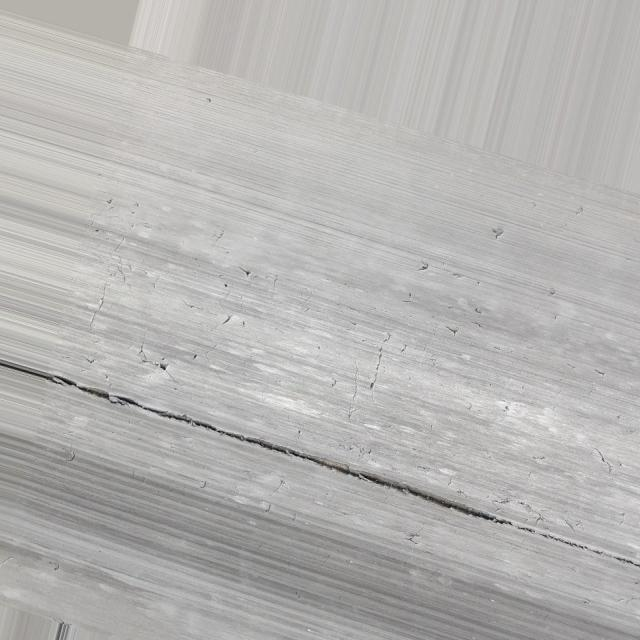Puncture: (446, 326, 458, 336), (240, 268, 252, 278), (160, 364, 167, 370)
Tear: (50, 374, 640, 568)
